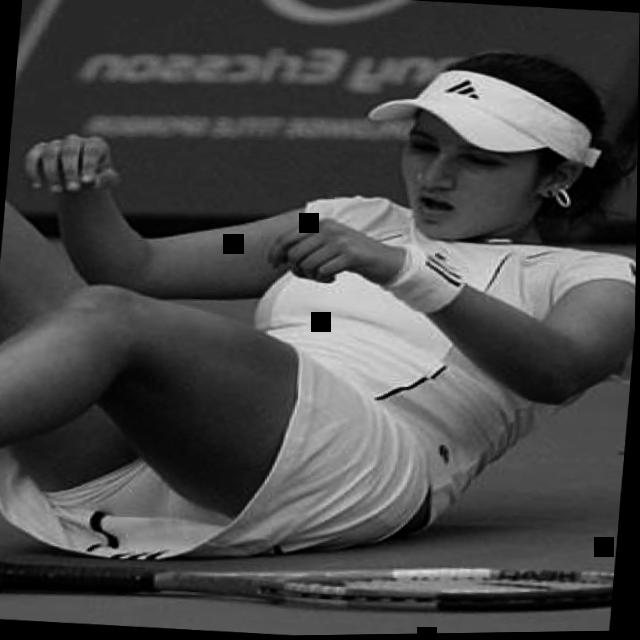Fall-Detected: (0, 0, 640, 622)
